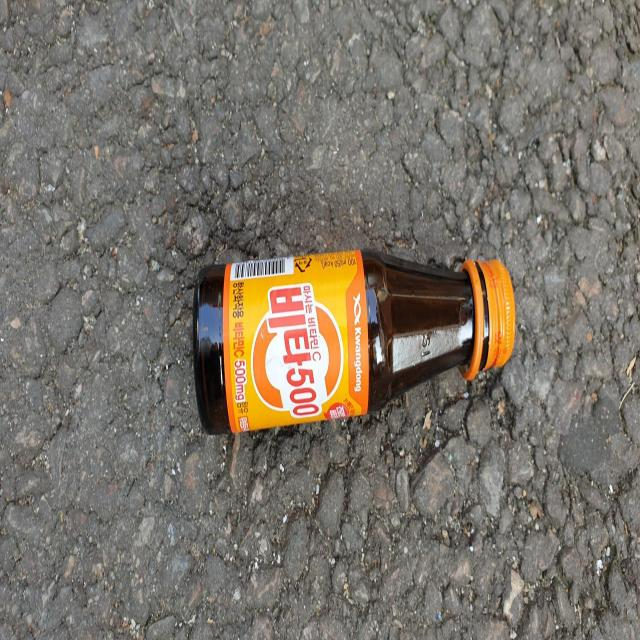glass: (193, 249, 516, 433)
